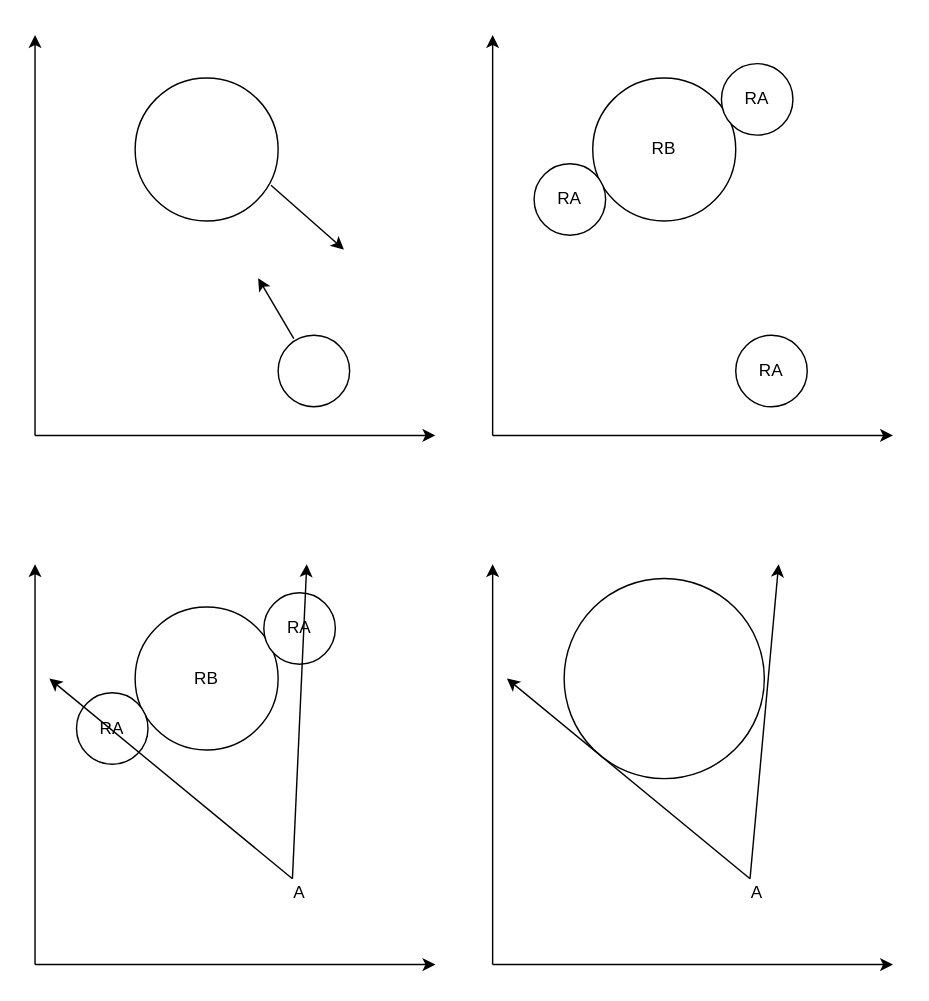
This 929x1001 diagram has some shape labels left out. Here are the shapes that lost their labels. From the top down, the centre of each, then its label:
At (x=206, y=149): "Radius B".
At (x=313, y=370): "Radius A".
At (x=663, y=678): "RB + RB".
